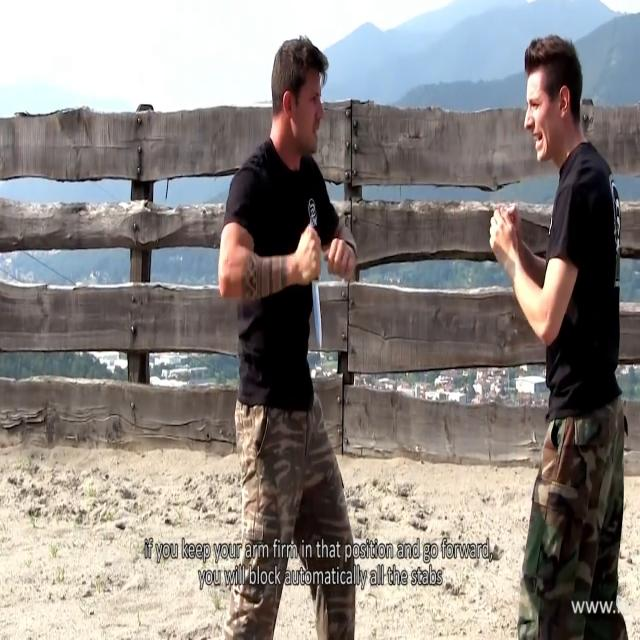knife: (312, 283, 326, 354)
